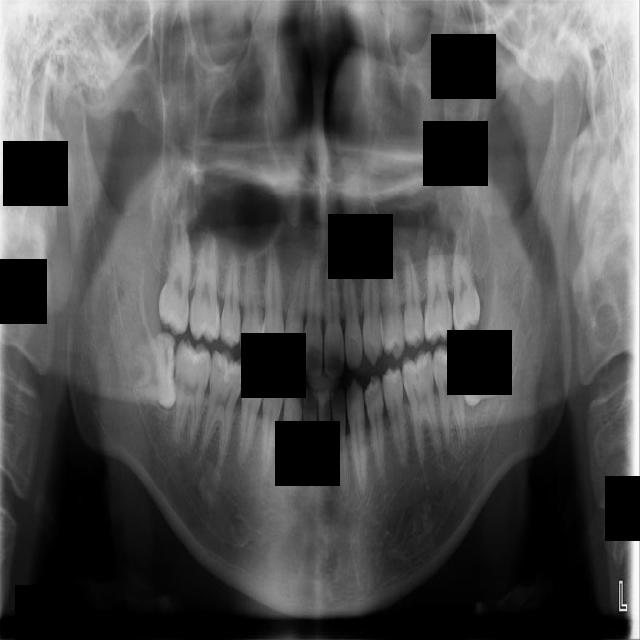73: (598, 558, 600, 574)
BioHorizons Implant: (452, 210, 482, 341)
Biomet 3i Implant: (459, 328, 511, 410)
Blue Sky Bio Implant: (431, 339, 471, 448)
Caries: (158, 200, 191, 337)
Implant: (172, 338, 214, 447)
Keystone Dental Implant: (134, 331, 179, 408)
